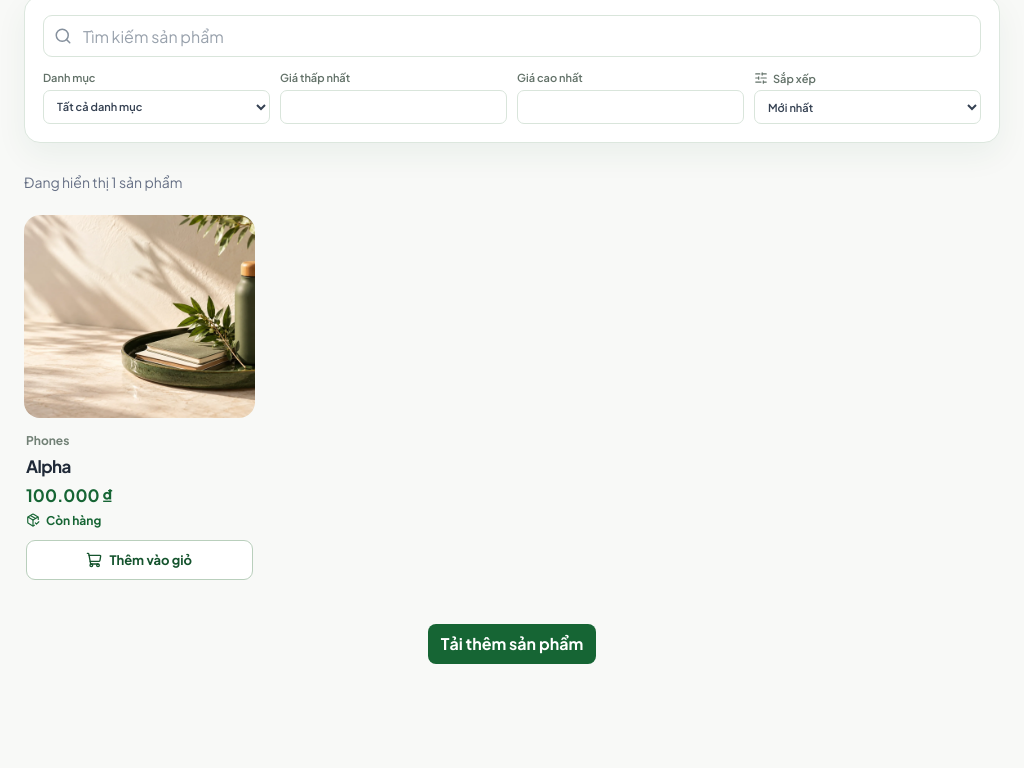
Test: StorefrontShopPage: default order uses the cursor API › a failed 'load more' keeps the rows on screen and retrying asks for the same cursor
(page scrolled)
Expected: the link "Alpha" is shown, [26,455,71,477]
Click the button "Tải thêm sản phẩm": {"x": 512, "y": 644} [428,624,596,664]
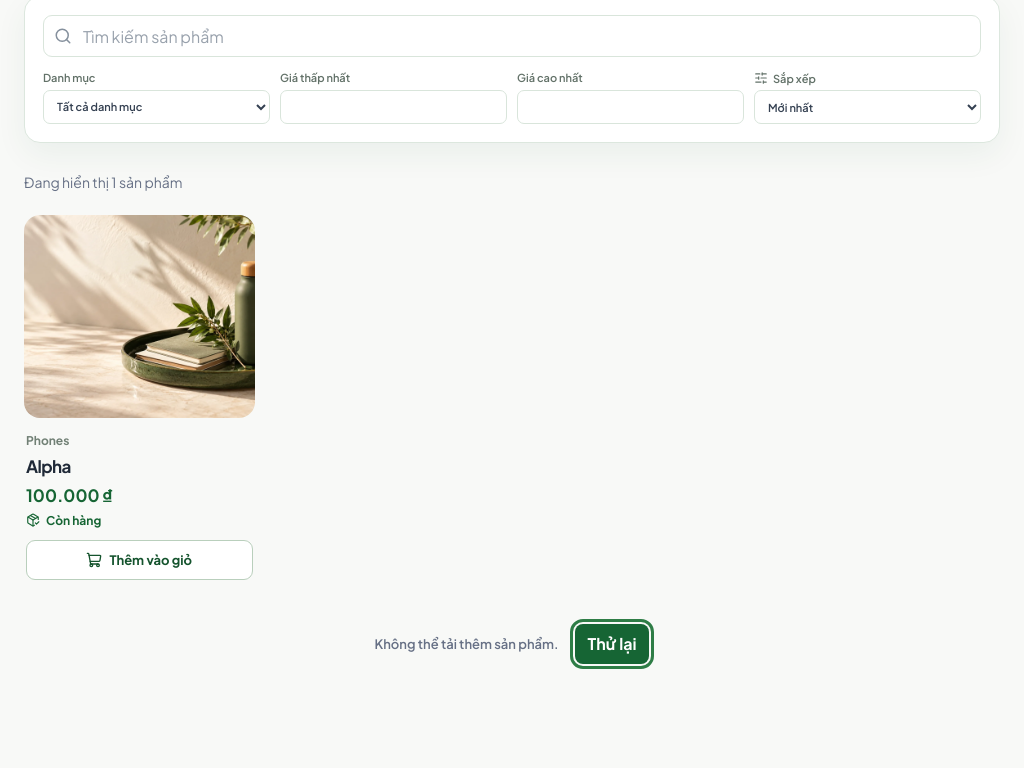
Expected: the link "Alpha" is shown, [26,455,71,477]
Expected: the message reads "Không thể tải thêm sản phẩm.", [374,636,558,652]
Click the button "Thử lại": {"x": 612, "y": 644} [575,624,650,664]
(page scrolled)
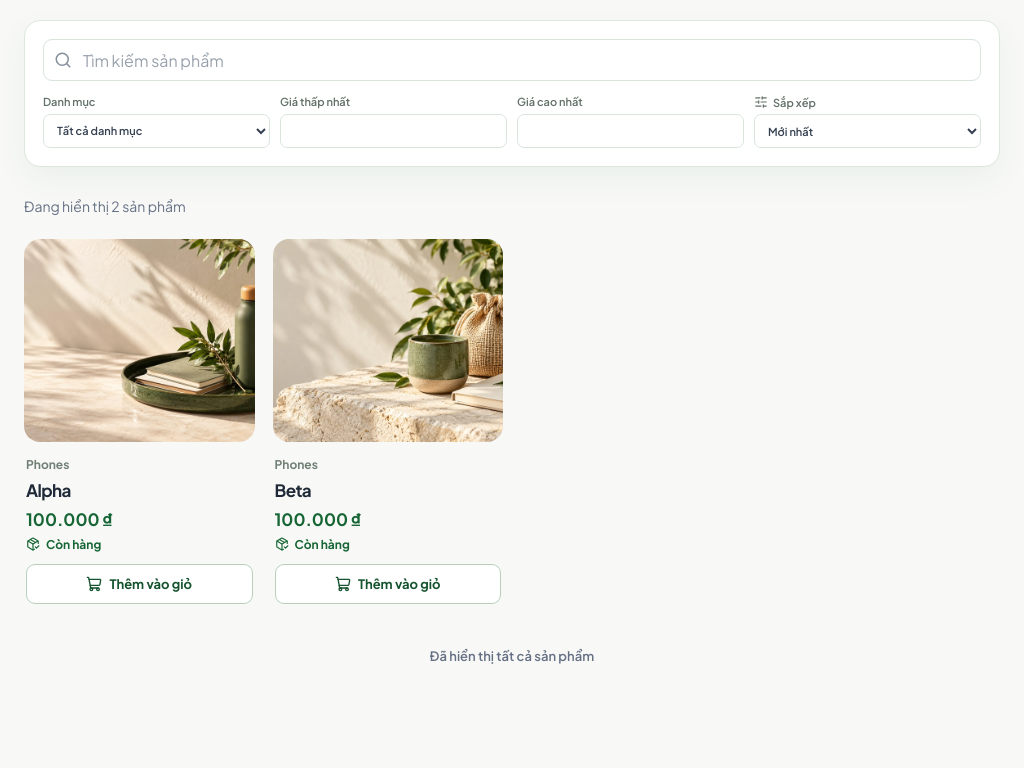
Expected: the link "Beta" is shown, [274,479,311,501]
Expected: the message "Không thể tải thêm sản phẩm." is gone
